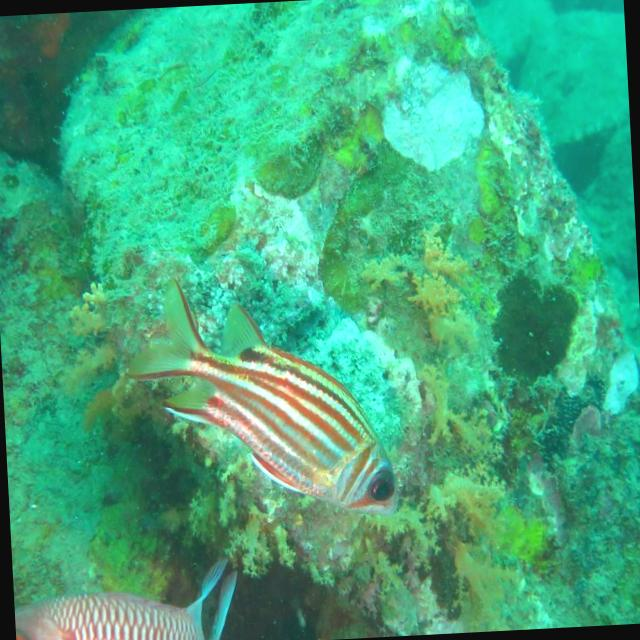Asker Baligi: (105, 236, 414, 543)
